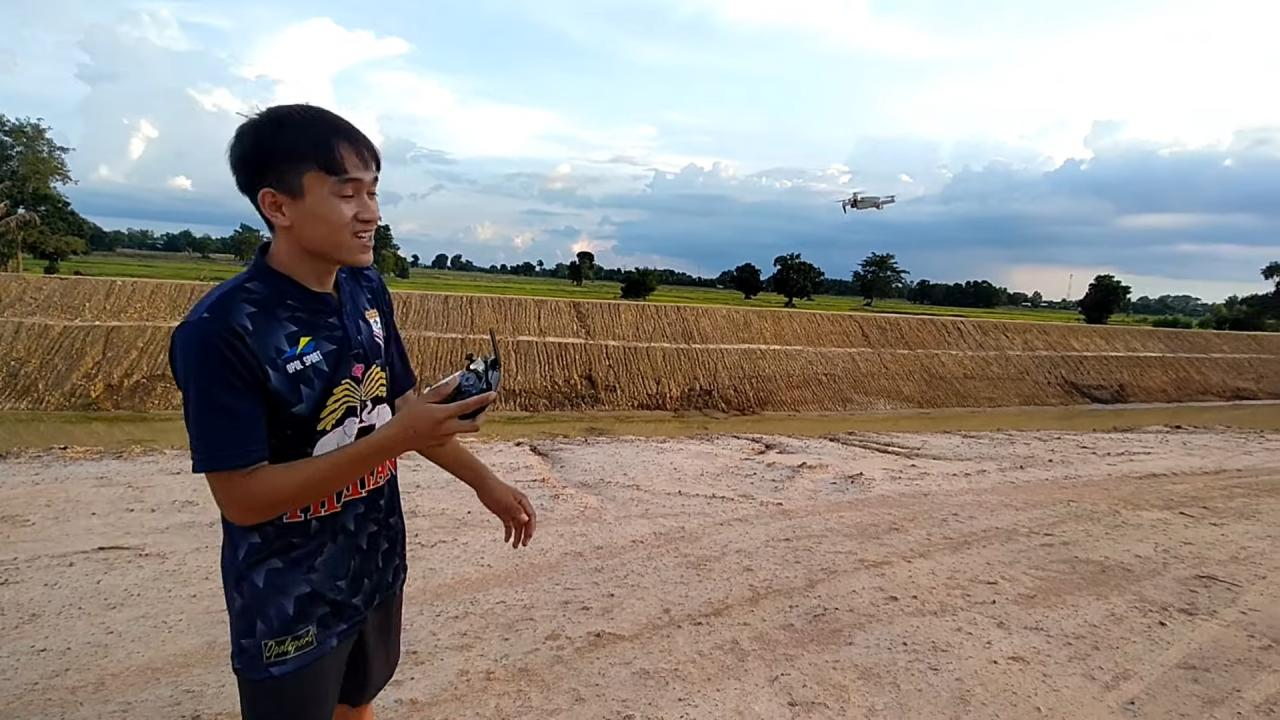Drone: (824, 185, 910, 221)
